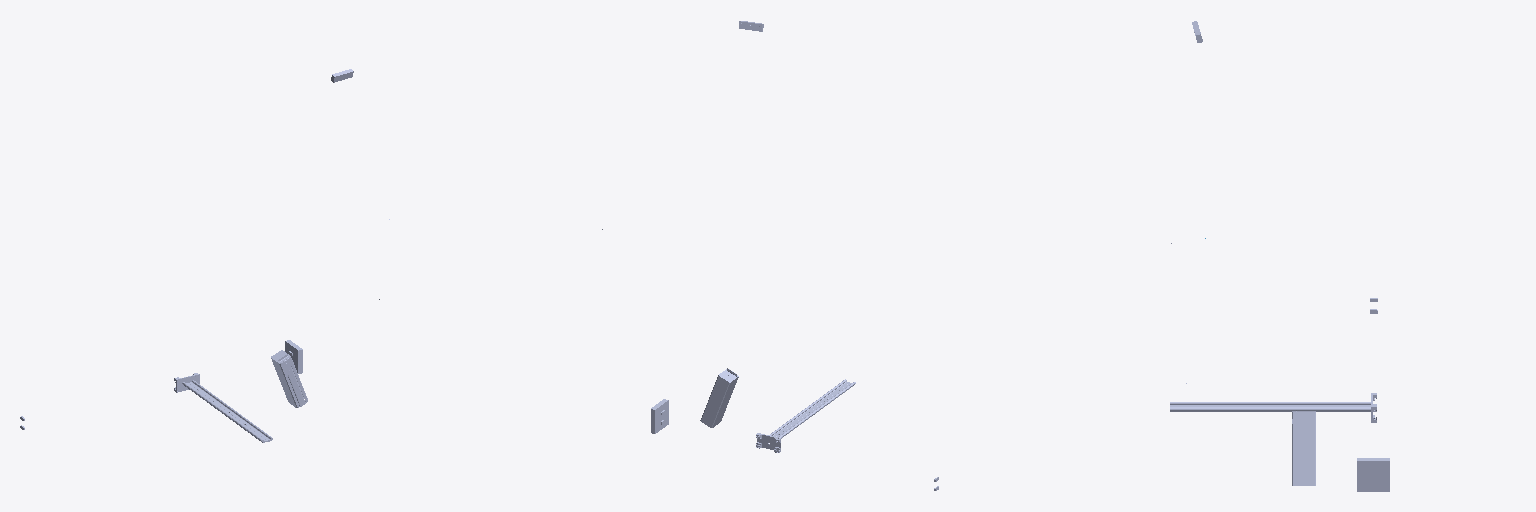
--- What the picture shows (computed from the rendered views, not written in the file) ---
The picture shows the robot from 3 angles, left to right: view 1: azimuth 30°, elevation 25°; view 2: azimuth 150°, elevation 25°; view 3: azimuth 270°, elevation 25°; orthographic projection.
Robot: robo_description — 21 links, 20 joints (2 revolute, 2 prismatic, 16 fixed); root link base_link; default pose: joints at zero except 1 at the middle of their limits (joint5 = 0.4665).
Links seen in each view (by area): view 1: link2, link5; view 2: link2, link5, base_link; view 3: link2, link5, base_link.
Boxes of the visible links, bbox=[...] form: link2: bbox=[174, 373, 272, 442]; link5: bbox=[271, 350, 307, 407]; link2: bbox=[756, 379, 855, 452]; link5: bbox=[700, 368, 738, 427]; base_link: bbox=[651, 399, 938, 490]; link2: bbox=[1170, 393, 1376, 422]; link5: bbox=[1292, 410, 1315, 485]; base_link: bbox=[1357, 298, 1389, 491].
Bounding box of the posed robot: 1.74 × 0.657 × 1.52 m (x, y, z).
Meshes: 6 distinct files referenced, 4 mesh visuals loaded (4 binary STL); not drawn: 2 (reference not matched to a file when rendering).

robot.urdf — robo_description:
<?xml version="1.0" encoding="utf-8"?>
<!-- 25AUG2023 Changed the minimum limit of lJoint5 to 0.247 and max to 0.686 -->
<!-- This URDF was automatically created by SolidWorks to URDF Exporter! Originally created by Stephen Brawner ([email redacted]) 
     Commit Version: 1.6.0-4-g7f85cfe  Build Version: 1.6.7995.38578
     For more information, please see http://wiki.ros.org/sw_urdf_exporter -->
<robot
  name="robo_description">
  <link
    name="base_link">
    <inertial>
      <origin
        xyz="-5.13826234849775E-17 -1.63904738952765E-17 0.339473684210526"
        rpy="0 0 0" />
      <mass
        value="19" />
      <inertia
        ixx="2.34956140350877"
        ixy="1.11311423041845E-17"
        ixz="3.69215798456927E-16"
        iyy="2.34956140350877"
        iyz="-7.44985984223617E-17"
        izz="0.151666666666667" />
    </inertial>
    <visual>
      <origin
        xyz="0 0 0"
        rpy="0 0 0" />
      <geometry>
        <mesh
          filename="package://robo_description/meshes/base_link.STL" />
      </geometry>
      <material
        name="">
        <color
          rgba="0.792156862745098 0.819607843137255 0.933333333333333 1" />
      </material>
    </visual>
    <collision>
      <origin
        xyz="0 0 0"
        rpy="0 0 0" />
      <geometry>
        <mesh
          filename="package://robo_description/meshes/base_link.STL" />
      </geometry>
    </collision>
  </link>
  <link
    name="link2">
    <inertial>
      <origin
        xyz="-0.001261 -0.2858 0.14572"
        rpy="0 0 0" />
      <mass
        value="3.13280329013611" />
      <inertia
        ixx="0.0169430024052603"
        ixy="-0.00280446630124331"
        ixz="0.0223183329111622"
        iyy="0.162057682822749"
        iyz="0.000505061238040558"
        izz="0.161640952999751" />
    </inertial>
    <visual>
      <origin
        xyz="0 0 -1"
        rpy="0 0 0" />
      <geometry>
        <mesh
          filename="package://robo_description/meshes/link2.STL" />
      </geometry>
      <material
        name="">
        <color
          rgba="0.792156862745098 0.819607843137255 0.933333333333333 1" />
      </material>
    </visual>
    <collision>
      <origin
        xyz="0 0 0"
        rpy="0 0 0" />
      <geometry>
        <mesh
          filename="package://robo_description/meshes/link2.STL" />
      </geometry>
    </collision>
  </link>
  <joint
    name="joint2"
    type="prismatic">
    <origin
      xyz="0.0 0 1"
      rpy="0 0 0" />
    <parent
      link="base_link" />
    <child
      link="link2" />
    <axis
      xyz="0 0 1" />
    <limit
      lower="0"
      upper="1"
      effort="0"
      velocity="0" />
  </joint>
  <link
    name="link4">
    <inertial>
      <origin
        xyz="-0.000438554587764983 0.0620490502692163 -0.172885898172371"
        rpy="0 0 0" />
      <mass
        value="0.162146723185788" />
      <inertia
        ixx="0.00336616371871891"
        ixy="1.46811284877534E-06"
        ixz="-3.57096843523024E-06"
        iyy="0.00312866852492012"
        iyz="0.00048231220150353"
        izz="0.000338308018448651" />
    </inertial>
    <visual>
      <origin
        xyz="-0.4665 0 -0.790"
        rpy="0 0 0" />
      <geometry>
        <mesh
          filename="package://robo_description/meshes/link4.STL" />
      </geometry>
      <material
        name="">
        <color
          rgba="0.792156862745098 0.819607843137255 0.933333333333333 1" />
      </material>
    </visual>
    <collision>
      <origin
        xyz="0 0 0"
        rpy="0 0 0" />
      <geometry>
        <mesh
          filename="package://robo_description/meshes/link4.STL" />
      </geometry>
    </collision>
  </link>
  <joint
    name="joint4"
    type="revolute">
    <origin
      xyz="0.4665 0 -0.21"
      rpy="0 0 0" />
    <parent
      link="link2" />
    <child
      link="link4" />
    <axis
      xyz="0 0 1" />
    <limit
      lower="-2.9671"
      upper="2.9671"
      effort="0"
      velocity="0" />
  </joint>
  <link
    name="link3">
    <inertial>
      <origin
        xyz="-0.0832189655707039 -0.0894795892974461 -0.00179630042130147"
        rpy="0 0 0" />
      <mass
        value="1.71811977068641" />
      <inertia
        ixx="0.00948440583507882"
        ixy="-0.00159429497921182"
        ixz="0.00308193362516688"
        iyy="0.035537875179704"
        iyz="0.000648421421055908"
        izz="0.0305779645247813" />
    </inertial>
    <visual>
      <origin
        xyz="-0.468545 -0.078 -0.43528"
        rpy="0 0 0" />
      <geometry>
        <mesh
          filename="package://robo_description/meshes/link3.STL" />
      </geometry>
      <material
        name="">
        <color
          rgba="0.792156862745098 0.819607843137255 0.933333333333333 1" />
      </material>
    </visual>
    <collision>
      <origin
        xyz="0 0 0"
        rpy="0 0 0" />
      <geometry>
        <mesh
          filename="package://robo_description/meshes/link3.STL" />
      </geometry>
    </collision>
  </link>
  <joint
    name="joint3"
    type="revolute">
    <origin
      xyz="0.0 0.077824 -0.35472"
      rpy="0 0 0" />
    <parent
      link="link4" />
    <child
      link="link3" />
    <axis
      xyz="0 1 0" />
    <limit
      lower="-1.5708"
      upper="1.5708"
      effort="0"
      velocity="0" />
  </joint>
  <link
    name="yanthra_link">
    <inertial>
      <origin
        xyz="-0.0832189655707036 -0.0114795892974462 -0.00179630042130124"
        rpy="0 0 0" />
      <mass
        value="1.71811977068641" />
      <inertia
        ixx="0.00948440583507882"
        ixy="-0.00159429497921182"
        ixz="0.0030819336251669"
        iyy="0.035537875179704"
        iyz="0.000648421421055907"
        izz="0.0305779645247813" />
    </inertial>
    <visual>
      <origin
        xyz="0 0 0"
        rpy="0 0 0" />
      <geometry>
        <box size="0.001 0.001 0.001"/>
      </geometry>
      <material
        name="">
        <color
          rgba="0.792156862745098 0.819607843137255 0.933333333333333 1" />
      </material>
    </visual>
    <collision>
      <origin
        xyz="0 0 0"
        rpy="0 0 0" />
      <geometry>
        <box size="0.001 0.001 0.001"/>
      </geometry>
    </collision>
  </link>
  <joint
    name="yanthra_joint"
    type="fixed">
    <origin
      xyz="0 -0.078 0"
      rpy="0 0 0" />
    <parent
      link="link3" />
    <child
      link="yanthra_link" />
    <axis
      xyz="0 0 0" />
  </joint>
  <link
    name="link5_origin">
    <inertial>
      <origin
        xyz="-0.00874999999999998 0.0375 -0.00507843424240889"
        rpy="0 0 0" />
      <mass
        value="0.0438088883035136" />
      <inertia
        ixx="3.24913884800222E-05"
        ixy="1.33063310958086E-21"
        ixz="-8.470329472543E-22"
        iyy="3.99574478810853E-06"
        iyz="-3.38875204913906E-21"
        izz="3.07317223657389E-05" />
    </inertial>
    <visual>
      <origin
        xyz="0 0 0"
        rpy="0 0 0" />
      <geometry>
        <box size="0.001 0.001 0.001"/>
      </geometry>
      <material
        name="">
        <color
          rgba="0.792156862745098 0.819607843137255 0.933333333333333 1" />
      </material>
    </visual>
    <collision>
      <origin
        xyz="0 0 0"
        rpy="0 0 0" />
      <geometry>
        <box size="0.001 0.001 0.001"/>
      </geometry>
    </collision>
  </link>
  <joint
    name="link5_origin_joint"
    type="fixed">
    <origin
      xyz="0 0 0.0"
      rpy="0 0 0" />
    <parent	
      link="yanthra_link" />
    <child
      link="link5_origin" />
    <axis
      xyz="0 0 0" />
  </joint>
  <link
    name="link5">
    <inertial>
      <origin
        xyz="0.108132413871145 2.08242781028485E-06 0.00569147154470495"
        rpy="0 0 0" />
      <mass
        value="0.277404400359573" />
      <inertia
        ixx="0.00021628976171093"
        ixy="1.27900715148446E-06"
        ixz="-0.000135093187106687"
        iyy="0.00359200319167061"
        iyz="-8.36237914028336E-08"
        izz="0.00358633509004247" />
    </inertial>
    <visual>
      <origin
        xyz="-0.715545 0 -0.43528"
        rpy="0 0 0" />
      <geometry>
        <mesh
          filename="package://robo_description/meshes/link5.STL" />
      </geometry>
      <material
        name="">
        <color
          rgba="0.792156862745098 0.819607843137255 0.933333333333333 1" />
      </material>
    </visual>
    <collision>
      <origin
        xyz="0 0 0"
        rpy="0 0 0" />
      <geometry>
        <mesh
          filename="package://robo_description/meshes/link5.STL" />
      </geometry>
    </collision>
  </link>
  <joint
    name="joint5"
    type="prismatic">
    <origin
      xyz="0.0 0 0"
      rpy="0 0 0" />
    <parent
      link="link5_origin" />
    <child
      link="link5" />
    <axis
      xyz="1 0 0" />
    <limit
      lower="0.247"
      upper="0.686"
      effort="0"
      velocity="0" />
  </joint>
  <link
    name="ee_link">
    <inertial>
      <origin
        xyz="-0.00874999999999998 0.0375 -0.00507843424240889"
        rpy="0 0 0" />
      <mass
        value="0.0438088883035136" />
      <inertia
        ixx="3.24913884800222E-05"
        ixy="1.33063310958086E-21"
        ixz="-8.470329472543E-22"
        iyy="3.99574478810853E-06"
        iyz="-3.38875204913906E-21"
        izz="3.07317223657389E-05" />
    </inertial>
    <visual>
      <origin
        xyz="0 0 0"
        rpy="0 0 0" />
      <geometry>
        <box size="0.001 0.001 0.001"/>
      </geometry>
      <material
        name="">
        <color
          rgba="0.792156862745098 0.819607843137255 0.933333333333333 1" />
      </material>
    </visual>
    <collision>
      <origin
        xyz="0 0 0"
        rpy="0 0 0" />
      <geometry>
        <box size="0.001 0.001 0.001"/>
      </geometry>
    </collision>
  </link>
  <joint
    name="ee_joint"
    type="fixed">
    <origin
      xyz="0 0 0"
      rpy="0 0 0" />
    <parent	
      link="link5" />
    <child
      link="ee_link" />
    <axis
      xyz="0 0 0" />
  </joint>
  <link
    name="aruco_marker_link">
    <inertial>
      <origin
        xyz="-0.00874999999999998 0.0375 -0.00507843424240889"
        rpy="0 0 0" />
      <mass
        value="0.0438088883035136" />
      <inertia
        ixx="3.24913884800222E-05"
        ixy="1.33063310958086E-21"
        ixz="-8.470329472543E-22"
        iyy="3.99574478810853E-06"
        iyz="-3.38875204913906E-21"
        izz="3.07317223657389E-05" />
    </inertial>
    <visual>
      <origin
        xyz="0 0 0"
        rpy="0 0 0" />
      <geometry>
        <box size="0.001 0.001 0.001"/>
      </geometry>
      <material
        name="">
        <color
          rgba="0.792156862745098 0.819607843137255 0.933333333333333 1" />
      </material>
    </visual>
    <collision>
      <origin
        xyz="0 0 0"
        rpy="0 0 0" />
      <geometry>
        <box size="0.001 0.001 0.001"/>
      </geometry>
    </collision>
  </link>
  <joint
    name="aruco_joint"
    type="fixed">
    <origin
      xyz="0 0 0.08"
      rpy="0 0 0" />
    <parent	
      link="ee_link" />
    <child
      link="aruco_marker_link" />
    <axis
      xyz="0 0 0" />
  </joint>
  <link
    name="aruco_link_1">
    <inertial>
      <origin
        xyz="-0.00874999999999998 0.0375 -0.00507843424240889"
        rpy="0 0 0" />
      <mass
        value="0.0438088883035136" />
      <inertia
        ixx="3.24913884800222E-05"
        ixy="1.33063310958086E-21"
        ixz="-8.470329472543E-22"
        iyy="3.99574478810853E-06"
        iyz="-3.38875204913906E-21"
        izz="3.07317223657389E-05" />
    </inertial>
    <visual>
      <origin
        xyz="0 0 0"
        rpy="0 0 0" />
      <geometry>
        <box size="0.001 0.001 0.001"/>
      </geometry>
      <material
        name="">
        <color
          rgba="0.792156862745098 0.819607843137255 0.933333333333333 1" />
      </material>
    </visual>
    <collision>
      <origin
        xyz="0 0 0"
        rpy="0 0 0" />
      <geometry>
        <box size="0.001 0.001 0.001"/>
      </geometry>
    </collision>
  </link>
  <joint
    name="aruco_joint_1"
    type="fixed">
    <origin
      xyz="0.0 0.04 0.04"
      rpy="0 0 0" />
    <parent	
      link="aruco_marker_link" />
    <child
      link="aruco_link_1" />
    <axis
      xyz="0 0 0" />
  </joint>
  <link
    name="aruco_link_2">
    <inertial>
      <origin
        xyz="-0.00874999999999998 0.0375 -0.00507843424240889"
        rpy="0 0 0" />
      <mass
        value="0.0438088883035136" />
      <inertia
        ixx="3.24913884800222E-05"
        ixy="1.33063310958086E-21"
        ixz="-8.470329472543E-22"
        iyy="3.99574478810853E-06"
        iyz="-3.38875204913906E-21"
        izz="3.07317223657389E-05" />
    </inertial>
    <visual>
      <origin
        xyz="0 0 0"
        rpy="0 0 0" />
      <geometry>
        <box size="0.001 0.001 0.001"/>
      </geometry>
      <material
        name="">
        <color
          rgba="0.792156862745098 0.819607843137255 0.933333333333333 1" />
      </material>
    </visual>
    <collision>
      <origin
        xyz="0 0 0"
        rpy="0 0 0" />
      <geometry>
        <box size="0.001 0.001 0.001"/>
      </geometry>
    </collision>
  </link>
  <joint
    name="aruco_joint_2"
    type="fixed">
    <origin
      xyz="0.0 -0.04 0.04"
      rpy="0 0 0" />
    <parent	
      link="aruco_marker_link" />
    <child
      link="aruco_link_2" />
    <axis
      xyz="0 0 0" />
  </joint>
  <link
    name="aruco_link_3">
    <inertial>
      <origin
        xyz="-0.00874999999999998 0.0375 -0.00507843424240889"
        rpy="0 0 0" />
      <mass
        value="0.0438088883035136" />
      <inertia
        ixx="3.24913884800222E-05"
        ixy="1.33063310958086E-21"
        ixz="-8.470329472543E-22"
        iyy="3.99574478810853E-06"
        iyz="-3.38875204913906E-21"
        izz="3.07317223657389E-05" />
    </inertial>
    <visual>
      <origin
        xyz="0 0 0"
        rpy="0 0 0" />
      <geometry>
        <box size="0.001 0.001 0.001"/>
      </geometry>
      <material
        name="">
        <color
          rgba="0.792156862745098 0.819607843137255 0.933333333333333 1" />
      </material>
    </visual>
    <collision>
      <origin
        xyz="0 0 0"
        rpy="0 0 0" />
      <geometry>
        <box size="0.001 0.001 0.001"/>
      </geometry>
    </collision>
  </link>
  <joint
    name="aruco_joint_3"
    type="fixed">
    <origin
      xyz="0.0 0.04 -0.04"
      rpy="0 0 0" />
    <parent	
      link="aruco_marker_link" />
    <child
      link="aruco_link_3" />
    <axis
      xyz="0 0 0" />
  </joint>
  <link
    name="aruco_link_4">
    <inertial>
      <origin
        xyz="-0.00874999999999998 0.0375 -0.00507843424240889"
        rpy="0 0 0" />
      <mass
        value="0.0438088883035136" />
      <inertia
        ixx="3.24913884800222E-05"
        ixy="1.33063310958086E-21"
        ixz="-8.470329472543E-22"
        iyy="3.99574478810853E-06"
        iyz="-3.38875204913906E-21"
        izz="3.07317223657389E-05" />
    </inertial>
    <visual>
      <origin
        xyz="0 0 0"
        rpy="0 0 0" />
      <geometry>
        <box size="0.001 0.001 0.001"/>
      </geometry>
      <material
        name="">
        <color
          rgba="0.792156862745098 0.819607843137255 0.933333333333333 1" />
      </material>
    </visual>
    <collision>
      <origin
        xyz="0 0 0"
        rpy="0 0 0" />
      <geometry>
        <box size="0.001 0.001 0.001"/>
      </geometry>
    </collision>
  </link>
  <joint
    name="aruco_joint_4"
    type="fixed">
    <origin
      xyz="0.0 -0.04 -0.04"
      rpy="0 0 0" />
    <parent	
      link="aruco_marker_link" />
    <child
      link="aruco_link_4" />
    <axis
      xyz="0 0 0" />
  </joint>
  <link
    name="link7">
    <inertial>
      <origin
        xyz="-0.00129487747822488 -0.0114795892973884 0.11996423535158"
        rpy="0 0 0" />
      <mass
        value="1.71811977068641" />
      <inertia
        ixx="0.0113386071435481"
        ixy="-0.00171490439294498"
        ixz="-0.00672100859249017"
        iyy="0.0355378751797041"
        iyz="-0.0001460470577602"
        izz="0.0287237632163119" />
    </inertial>
    <visual>
      <origin
        xyz="0 0 0"
        rpy="0 0 0" />
      <geometry>
        <box size="0.001 0.001 0.001"/>
      </geometry>
      <material
        name="">
        <color
          rgba="0.792156862745098 0.819607843137255 0.933333333333333 1" />
      </material>
    </visual>
    <collision>
      <origin
        xyz="0 0 0"
        rpy="0 0 0" />
      <geometry>
        <box size="0.001 0.001 0.001"/>
      </geometry>
    </collision>
  </link>
  <joint
    name="joint7"
    type="fixed">
    <origin
      xyz="0.46976 -0.069971 0.79711"
      rpy="0 0.785398 -1.5708" />
    <parent
      link="base_link"/>
    <child
      link="link7"/>
    <axis
      xyz="0 0 0" />
  </joint>
  <link
    name="camera_mount_link">
    <inertial>
      <origin
        xyz="-0.00129487747822488 -0.0114795892973883 0.11996423535158"
        rpy="0 0 0" />
      <mass
        value="1.71811977068641" />
      <inertia
        ixx="0.0113386071435481"
        ixy="-0.00171490439294498"
        ixz="-0.00672100859249018"
        iyy="0.0355378751797041"
        iyz="-0.000146047057760202"
        izz="0.0287237632163119" />
    </inertial>
    <visual>
      <origin
        xyz="0 0 0"
        rpy="0 0 0" />
      <geometry>
        <box size="0.001 0.001 0.001"/>
      </geometry>
      <material
        name="">
        <color
          rgba="0.792156862745098 0.819607843137255 0.933333333333333 1" />
      </material>
    </visual>
    <collision>
      <origin
        xyz="0 0 0"
        rpy="0 0 0" />
      <geometry>
        <box size="0.001 0.001 0.001"/>
      </geometry>
    </collision>
  </link>
  <joint
    name="camera_mount_joint"
    type="fixed">
    <origin
      xyz="0.02095 -0.0375 0"
      rpy="-1.5708 0 -1.5708" />
    <parent
      link="link7" />
    <child
      link="camera_mount_link" />
    <axis
      xyz="0 0 0" />
  </joint>
  <link
    name="virtual_cam_link">
    <inertial>
      <origin
        xyz="-0.00874999999999998 0.0375 -0.00507843424240889"
        rpy="0 0 0" />
      <mass
        value="0.0438088883035136" />
      <inertia
        ixx="3.24913884800222E-05"
        ixy="1.33063310958086E-21"
        ixz="-8.470329472543E-22"
        iyy="3.99574478810853E-06"
        iyz="-3.38875204913906E-21"
        izz="3.07317223657389E-05" />
    </inertial>
    <visual>
      <origin
        xyz="0 0 0"
        rpy="0 0 0" />
      <geometry>
        <box size="0.001 0.001 0.001"/>
      </geometry>
      <material
        name="">
        <color
          rgba="0.792156862745098 0.819607843137255 0.933333333333333 1" />
      </material>
    </visual>
    <collision>
      <origin
        xyz="0 0 0"
        rpy="0 0 0" />
      <geometry>
        <box size="0.001 0.001 0.001"/>
      </geometry>
    </collision>
  </link>
  <joint
    name="virtual_cam_link_joint"
    type="fixed">
    <origin
      xyz="0 0 0"
      rpy="0 0 0" />
    <parent	
      link="camera_mount_link" />
    <child
      link="virtual_cam_link" />
    <axis
      xyz="0 0 0" />
  </joint>

  <link
    name="camera_link">
    <inertial>
      <origin
        xyz="-0.00874999999999998 0.0375 -0.00507843424240889"
        rpy="0 0 0" />
      <mass
        value="0.0438088883035136" />
      <inertia
        ixx="3.24913884800222E-05"
        ixy="1.33063310958086E-21"
        ixz="-8.470329472543E-22"
        iyy="3.99574478810853E-06"
        iyz="-3.38875204913906E-21"
        izz="3.07317223657389E-05" />
    </inertial>
    <visual>
      <origin
        xyz="-0.03768 -0.425 -0.175"
        rpy="0 -2.04 -1.5708" />
      <geometry>
        <mesh
          filename="package://robo_description/meshes/camera_link.STL" />
      </geometry>
      <material
        name="">
        <color
          rgba="0.792156862745098 0.819607843137255 0.933333333333333 1" />
      </material>
    </visual>
    <collision>
      <origin
        xyz="0 0 0"
        rpy="0 0 0" />
      <geometry>
        <mesh
          filename="package://robo_description/meshes/camera_link.STL" />
      </geometry>
    </collision>
  </link>
  <joint
    name="camera_link_joint"
    type="fixed">
    <origin
      xyz="-0.0470805 0.0451957 -0.0979034"
      rpy="0.226525 -0.0693781 -0.110342" />
    <parent
      link="virtual_cam_link" />
    <child
      link="camera_link" />
    <axis
      xyz="0 0 0" />
  </joint>

  <link name="camera_depth_frame">

    <visual>

    <origin xyz="0 0 0" rpy="0 0 0" />

      <geometry>

        <box size="0.001 0.001 0.001"/>

      </geometry>

    </visual>

  </link>

  <joint name="camera_depth_frame_joint" type="fixed">

    <origin rpy="0 0 0" xyz="0 0 0"/>

    <parent link="camera_link"/>

    <child link="camera_depth_frame"/>

  </joint>

  <link name="camera_depth_optical_frame">

    <visual>

    <origin xyz="0 0 0" rpy="0 0 0" />

      <geometry>

        <box size="0.001 0.001 0.001"/>

      </geometry>

    </visual>

  </link>

  <joint name="camera_depth_optical_frame_joint" type="fixed">

   <origin rpy="0 0 0" xyz="0 0 0"/>

   <parent link="camera_depth_frame"/>

   <child link="camera_depth_optical_frame"/>

  </joint>

  <link name="camera_color_frame">

    <visual>

    <origin xyz="0 0 0" rpy="0 0 0" />

      <geometry>

        <box size="0.001 0.001 0.001"/>

      </geometry>

    </visual>

  </link>

  <joint name="camera_color_frame_joint" type="fixed">

    <origin rpy="0 0 0" xyz="0 0 0"/>

    <parent link="camera_link"/>

    <child link="camera_color_frame"/>

  </joint>

  <link name="camera_color_optical_frame">

    <visual>

    <origin xyz="0 0 0" rpy="0 0 0" />

      <geometry>

        <box size="0.001 0.001 0.001"/>

      </geometry>

    </visual>

  </link>

  <joint name="camera_color_optical_frame_joint" type="fixed">

   <origin rpy="0 0 0" xyz="0 0 0"/>

   <parent link="camera_color_frame"/>

   <child link="camera_color_optical_frame"/>

  </joint>
  <gazebo reference="stand">

    <material>Gazebo/Grey</material>

  </gazebo>

  <gazebo reference="link3">

    <material>Gazebo/Green</material>

  </gazebo>

  <gazebo reference="link4">

    <material>Gazebo/Red</material>

  </gazebo>

  <gazebo reference="link5">

    <material>Gazebo/Green</material>

  </gazebo>

  <gazebo reference="link9">

    <material>Gazebo/Red</material>

  </gazebo>

  <gazebo reference="link6">

    <material>Gazebo/White</material>

  </gazebo>

  <transmission name="tran1">

    <type>transmission_interface/SimpleTransmission</type>

    <joint name="joint3">

      <hardwareInterface>hardware_interface/PositionJointInterface</hardwareInterface>

    </joint>

    <actuator name="motor1">

      <hardwareInterface>hardware_interface/PositionJointInterface</hardwareInterface>

      <mechanicalReduction>1</mechanicalReduction>

    </actuator>

  </transmission>

  <transmission name="tran1">

    <type>transmission_interface/SimpleTransmission</type>

    <joint name="joint4">

      <hardwareInterface>hardware_interface/PositionJointInterface</hardwareInterface>

    </joint>

    <actuator name="motor1">

      <hardwareInterface>hardware_interface/PositionJointInterface</hardwareInterface>

      <mechanicalReduction>1</mechanicalReduction>

    </actuator>

  </transmission>

  <transmission name="tran1">

    <type>transmission_interface/SimpleTransmission</type>

    <joint name="joint5">

      <hardwareInterface>hardware_interface/PositionJointInterface</hardwareInterface>

    </joint>

    <actuator name="motor1">

      <hardwareInterface>hardware_interface/PositionJointInterface</hardwareInterface>

      <mechanicalReduction>1</mechanicalReduction>

    </actuator>

  </transmission>

  <gazebo>

    <plugin filename="libgazebo_ros_control.so" name="gazebo_ros_control">

      <robotNameSpace>/arm_controller</robotNameSpace>

    </plugin>

  </gazebo>

</robot>
